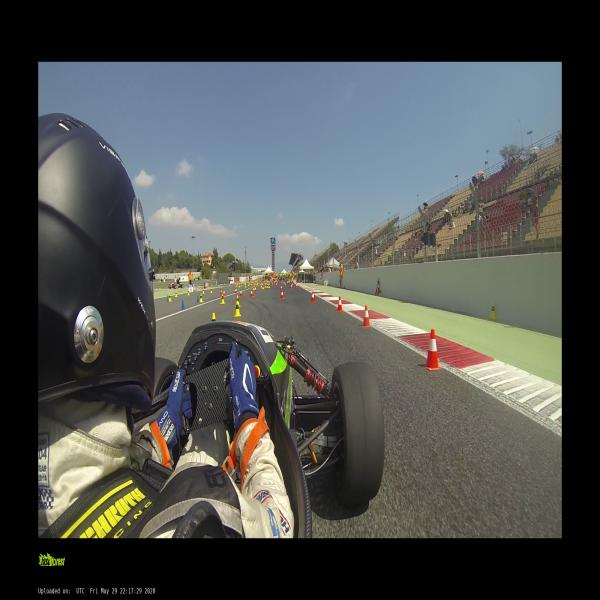blue_cone: (180, 299, 184, 309), (196, 294, 200, 302), (166, 294, 169, 301)
orange_cone: (424, 329, 442, 371), (361, 305, 371, 328), (336, 296, 343, 312), (310, 292, 316, 303), (280, 290, 284, 299), (239, 289, 243, 297), (250, 290, 253, 298), (222, 290, 226, 296), (254, 287, 257, 292), (220, 290, 222, 296), (280, 284, 282, 290), (290, 284, 292, 289), (235, 288, 237, 293), (296, 284, 298, 288)
yellow_cone: (233, 301, 241, 317), (489, 304, 496, 320), (234, 295, 240, 307), (220, 294, 225, 303), (168, 292, 172, 301), (212, 312, 216, 321), (199, 294, 203, 302), (174, 291, 178, 297), (187, 290, 190, 295), (252, 285, 255, 290), (202, 288, 204, 294), (210, 288, 212, 293), (262, 285, 264, 289), (268, 284, 270, 288)
